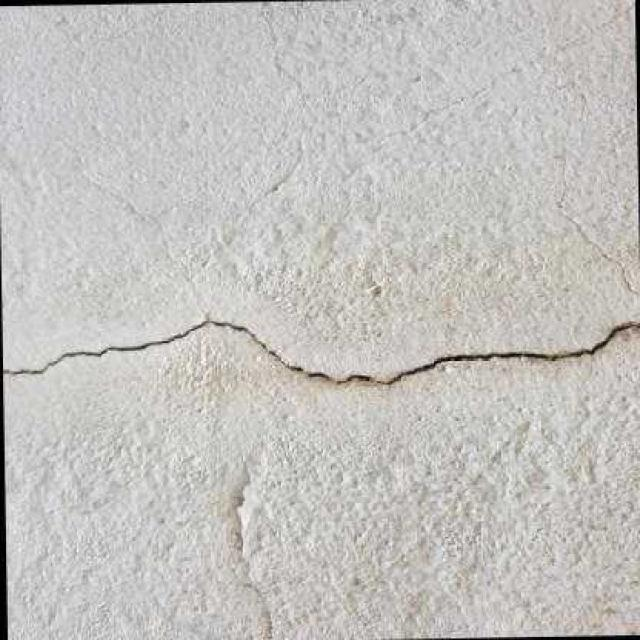D00: (1, 320, 640, 384)
